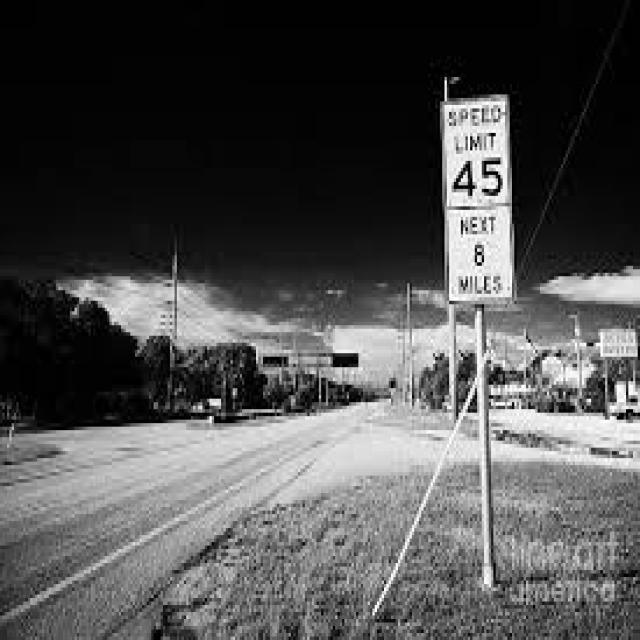speedLimit45: (438, 93, 516, 215)
